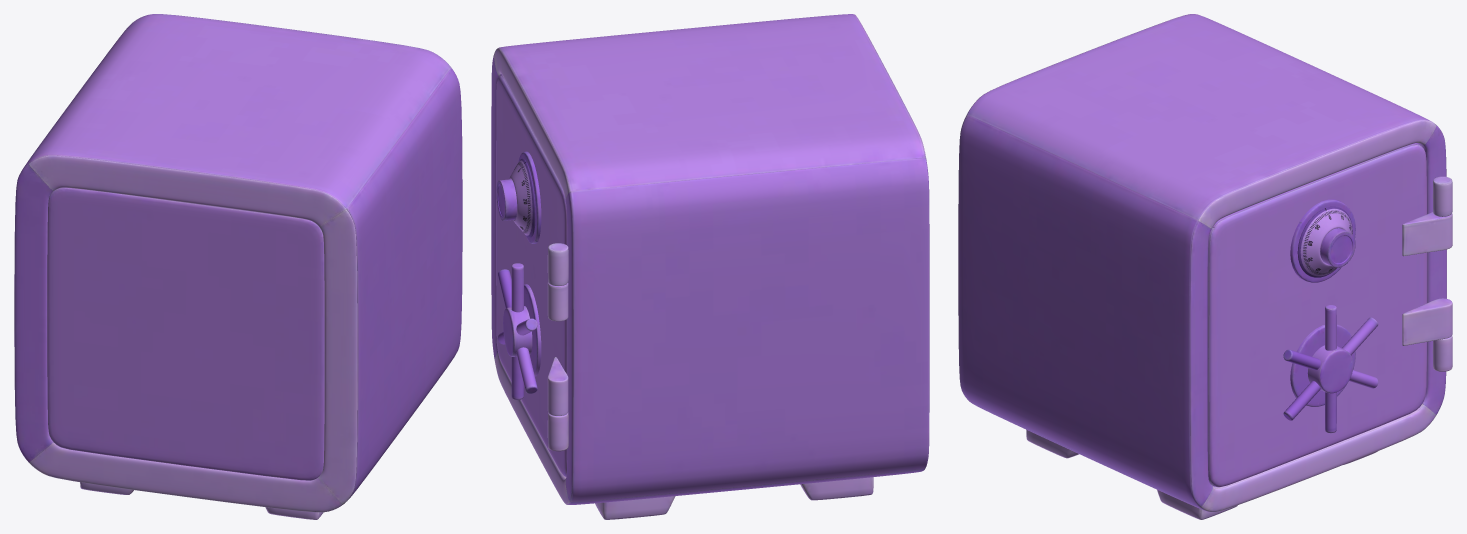
The model's file is vault.glb.
The picture shows the model from 3 angles, left to right: view 1: azimuth 30°, elevation 25°; view 2: azimuth 150°, elevation 25°; view 3: azimuth 270°, elevation 25°; orthographic projection. The views are drawn at different scales.
Visible parts, largest first — view 1: Vault; view 2: Vault, VaultDoor, VaultHandle, VaultNumbers; view 3: Vault, VaultDoor, VaultHandle, VaultNumbers.
Part boxes in pixels (<box>): Vault: <box>14,14,462,519</box>; Vault: <box>491,14,929,519</box>; VaultDoor: <box>496,75,568,476</box>; VaultHandle: <box>497,263,537,399</box>; VaultNumbers: <box>496,158,535,237</box>; Vault: <box>958,14,1446,519</box>; VaultDoor: <box>1207,143,1452,487</box>; VaultHandle: <box>1283,305,1378,433</box>; VaultNumbers: <box>1297,206,1355,277</box>.
Bounding box in the file's own units: 0.103 × 0.0801 × 0.1043.
1 material, 1 textured.
